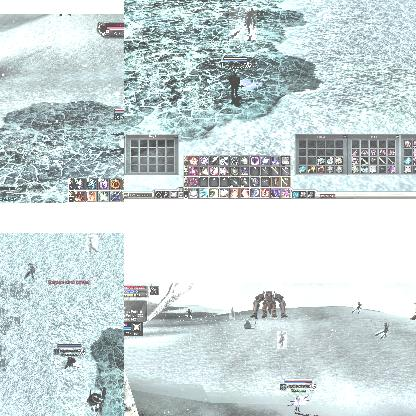caliana: (229, 6, 257, 40), (374, 323, 390, 339), (24, 262, 38, 278), (86, 235, 98, 251), (277, 331, 287, 349), (352, 302, 362, 314), (229, 307, 235, 319), (184, 310, 192, 318)
